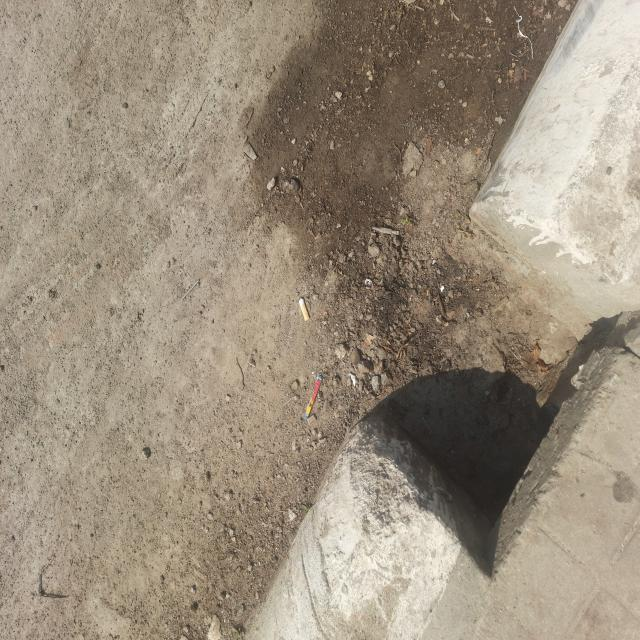Background: (0, 0, 640, 638)
Cig_bud: (299, 298, 310, 320)
Plastic_wraper: (302, 375, 322, 420)
